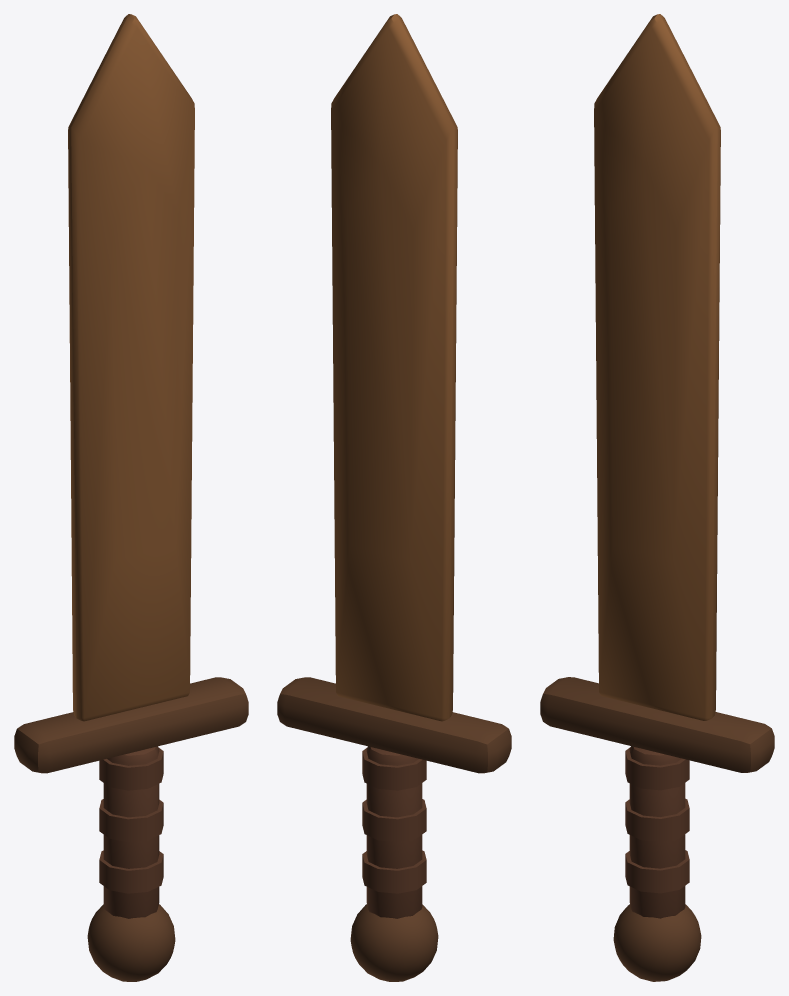
Rendered from wood.glb.
3 views of the same model, side by side, from view 1: azimuth 30°, elevation 25°; view 2: azimuth 150°, elevation 25°; view 3: azimuth 330°, elevation 25° (orthographic).
Visible parts, largest first — view 1: wpn_wood; view 2: wpn_wood; view 3: wpn_wood.
Part boxes in pixels (x1,y1,x2,y2): wpn_wood: [14, 14, 248, 981]; wpn_wood: [277, 14, 511, 981]; wpn_wood: [540, 14, 774, 981].
Bounding box in the file's own units: 0.4 × 1.68 × 0.14.
